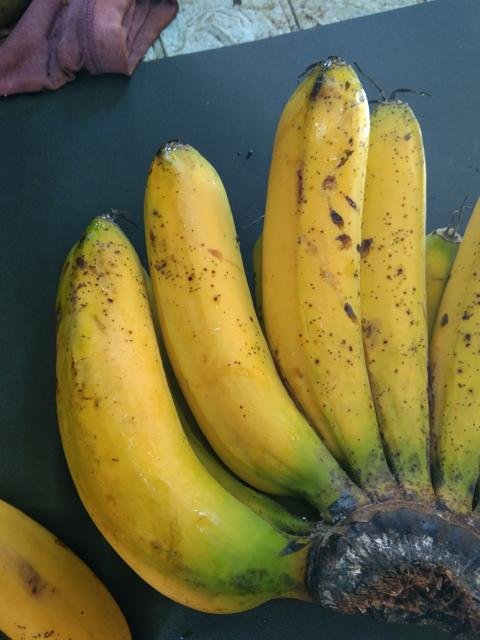ripe: (33, 214, 330, 611), (102, 113, 355, 501), (242, 43, 400, 514), (342, 87, 445, 486)
